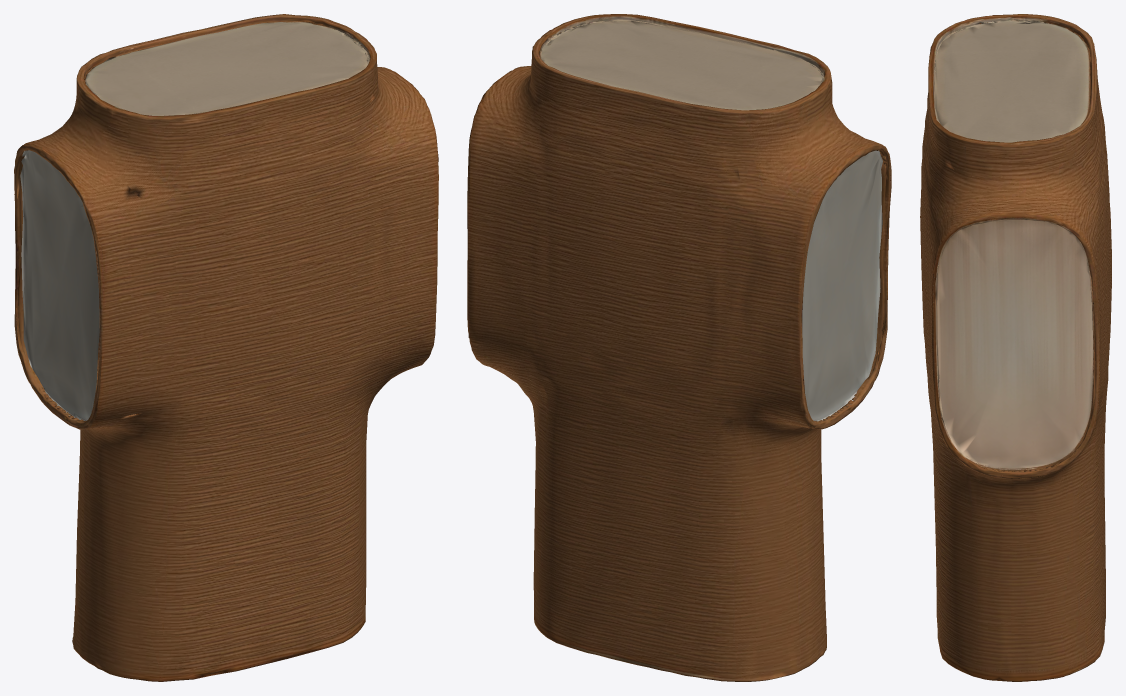
The model's file is lamp_03.glb.
3 views of the same model, side by side, from view 1: azimuth 30°, elevation 25°; view 2: azimuth 150°, elevation 25°; view 3: azimuth 270°, elevation 25° (orthographic). The views are drawn at different scales.
Visible parts, largest first — view 1: tripo_part_0, tripo_part_2, tripo_part_4; view 2: tripo_part_0, tripo_part_4, tripo_part_2; view 3: tripo_part_0, tripo_part_5, tripo_part_2.
Boxes of the visible parts, x1,y1,x2,y2 form: tripo_part_0: (14, 14, 438, 681); tripo_part_2: (84, 21, 369, 115); tripo_part_4: (20, 150, 99, 420); tripo_part_0: (467, 14, 891, 681); tripo_part_4: (802, 150, 882, 421); tripo_part_2: (539, 19, 823, 110); tripo_part_0: (920, 14, 1111, 681); tripo_part_5: (937, 220, 1094, 470); tripo_part_2: (934, 21, 1090, 142).
Size of the model in its own units: 0.6556 by 1 by 0.319.
Materials: 5 (5 with a texture image).
